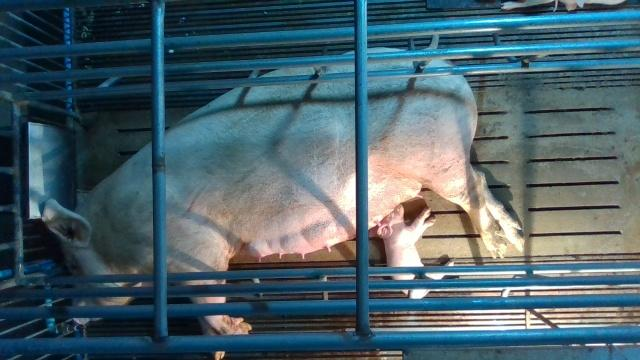piglet: (377, 202, 455, 298)
sow-sleep-lactate: (43, 34, 525, 360)
